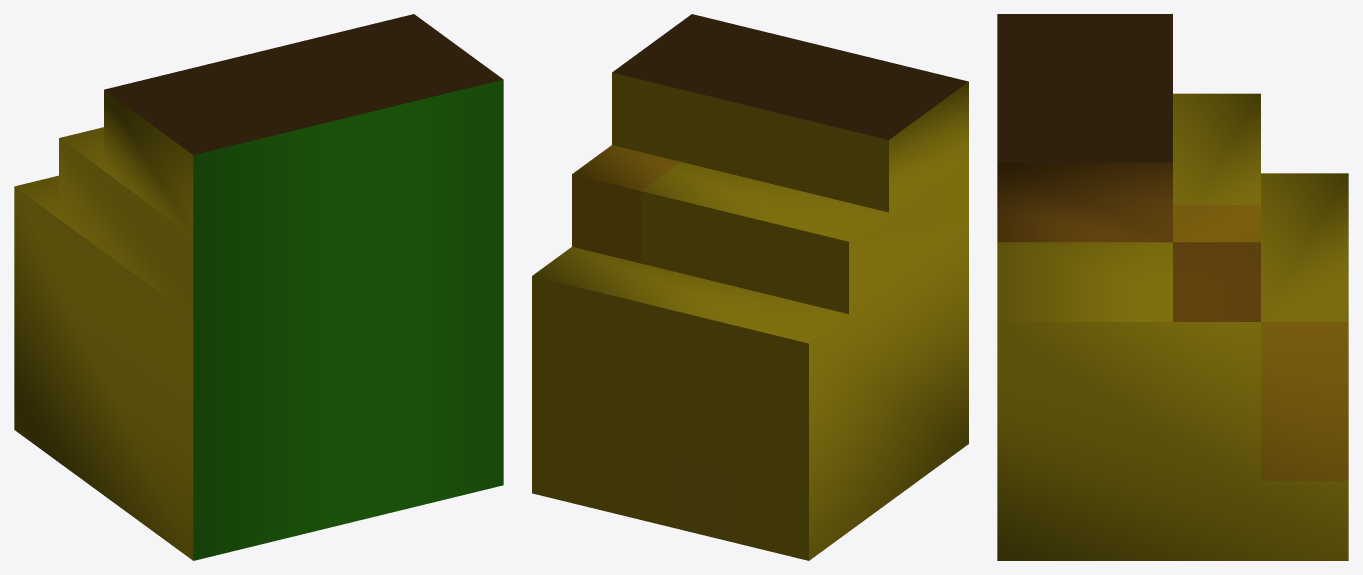
File: block_24.fbx
The picture shows the model from 3 angles, left to right: view 1: azimuth 30°, elevation 25°; view 2: azimuth 150°, elevation 25°; view 3: azimuth 270°, elevation 25°; orthographic projection. The views are drawn at different scales.
Visible parts, largest first — view 1: box; view 2: box; view 3: box.
Boxes of the visible parts, bbox=[...] form: box: bbox=[14, 14, 503, 560]; box: bbox=[532, 14, 968, 560]; box: bbox=[997, 14, 1348, 560].
Bounding box in the file's own units: 400 × 400 × 500.
Materials: 1 (1 with a texture image).
